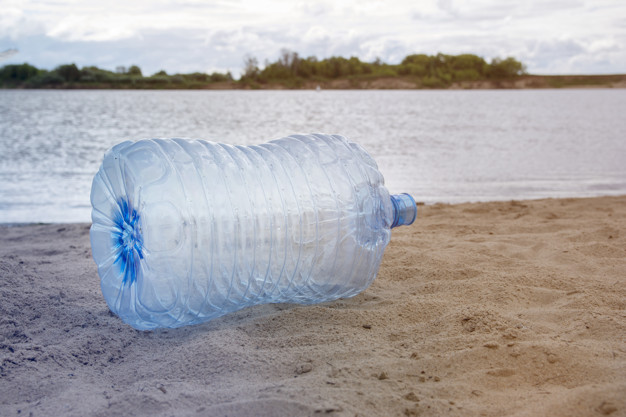plastic_bottle: (63, 67, 515, 410)
